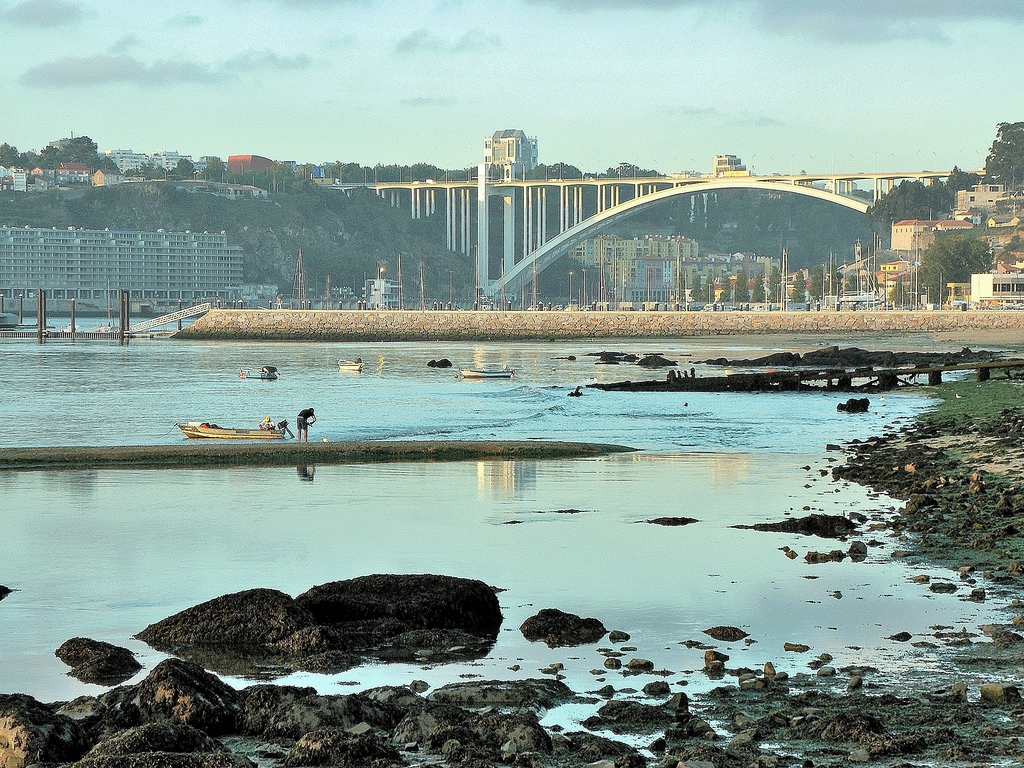arrabida: (311, 167, 997, 310)
